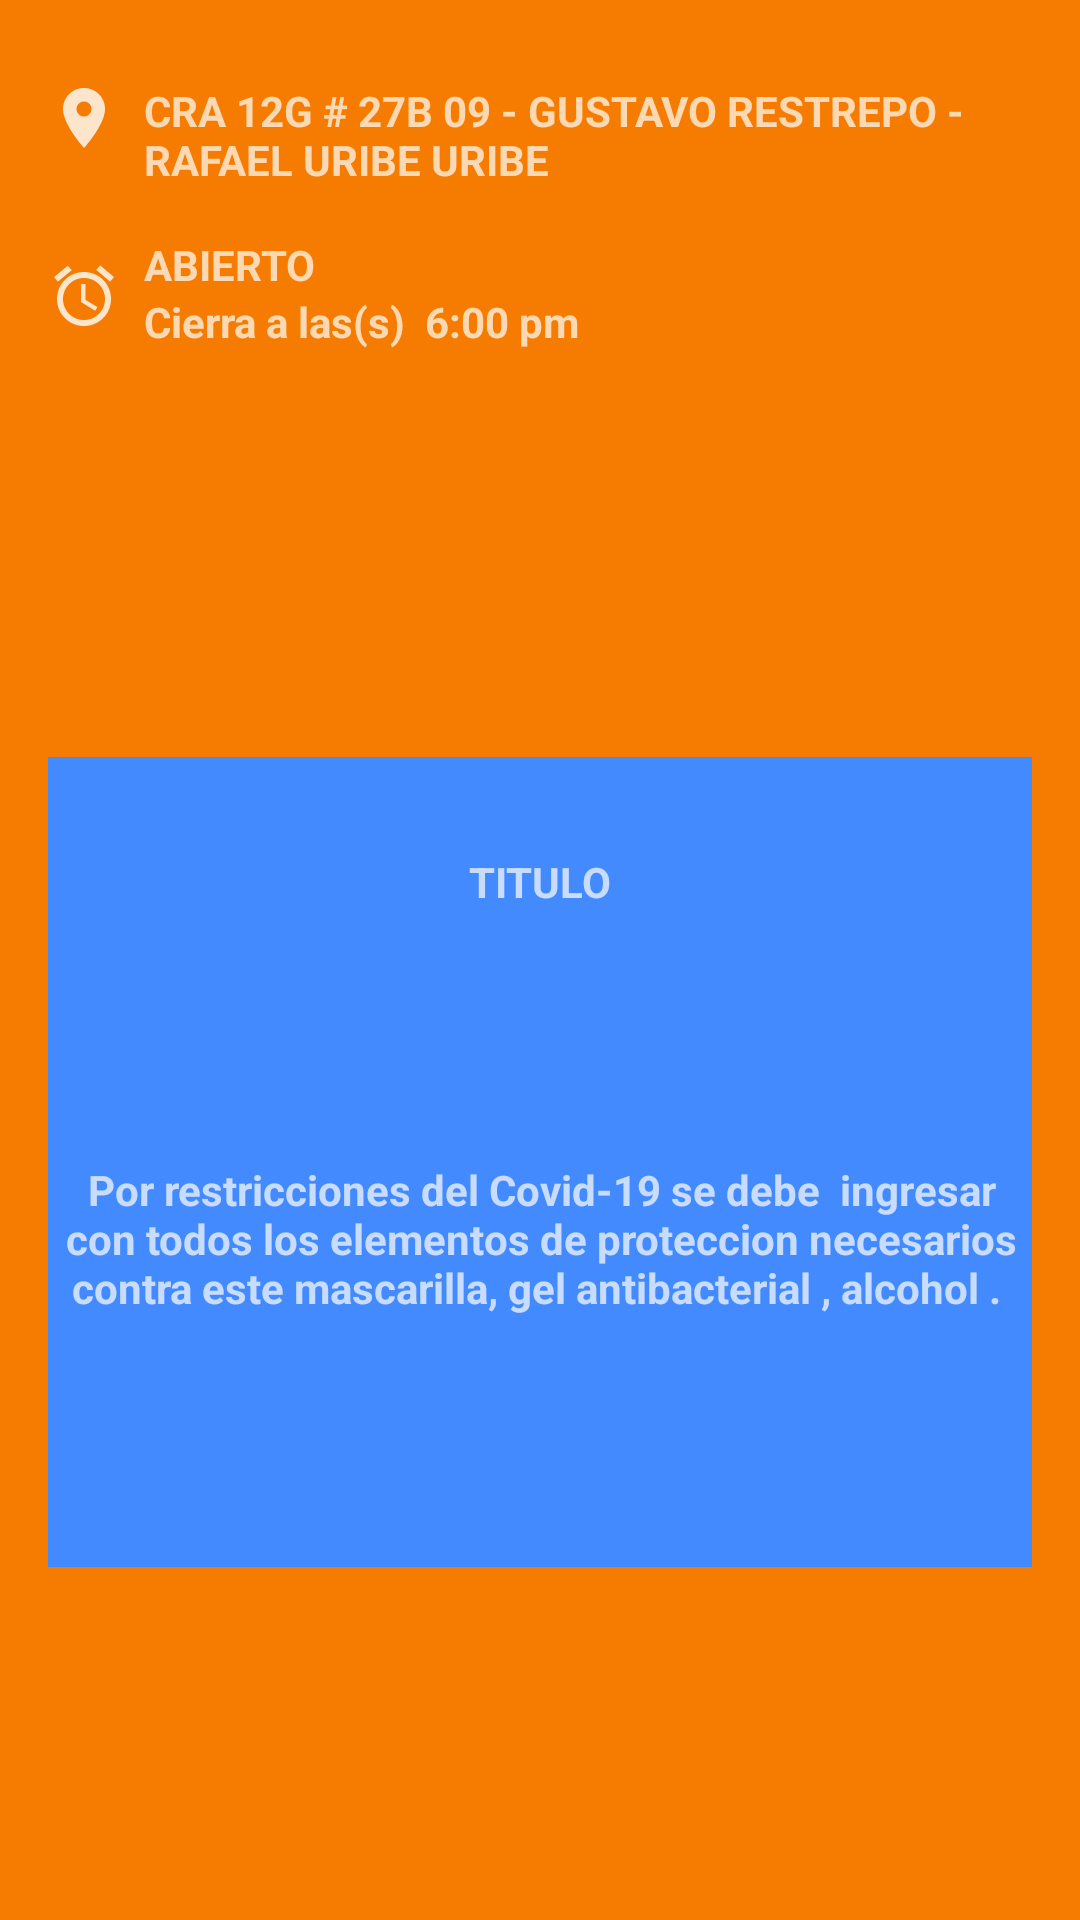

Screen size 1080 × 1920. Icon name, then its box in pixels as box=[x1, y1, x2, y2]:
maps: box=[63, 88, 105, 148]
maps hour: box=[54, 265, 114, 326]
